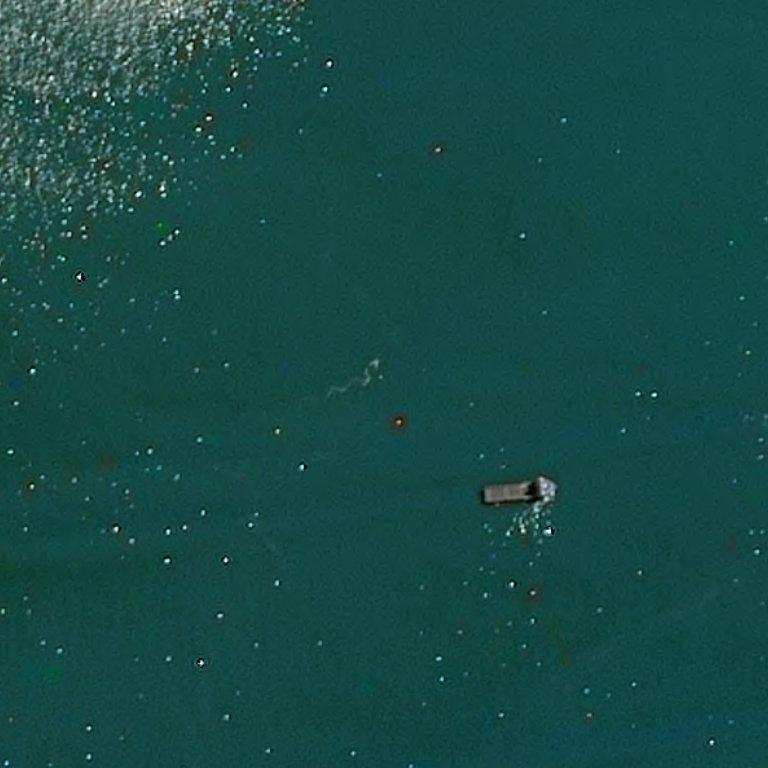ship: (480, 475, 560, 505)
